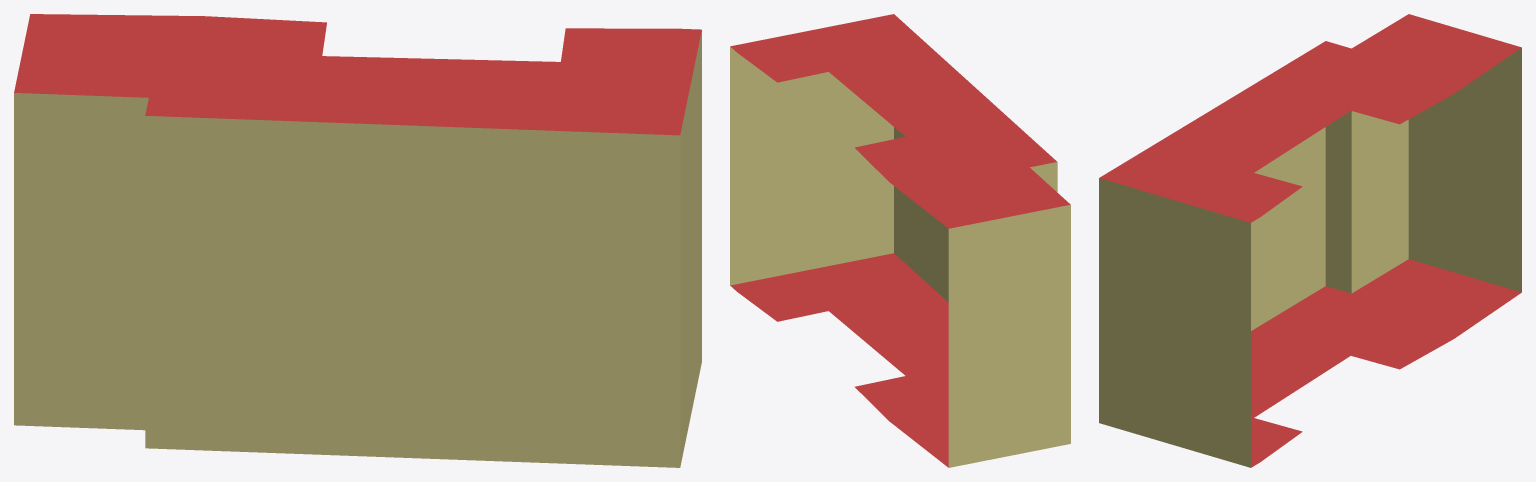
The picture shows the model from 3 angles, left to right: view 1: azimuth 30°, elevation 25°; view 2: azimuth 150°, elevation 25°; view 3: azimuth 270°, elevation 25°; orthographic projection. The views are drawn at different scales.
Parts seen in each view (by area): view 1: group_4, group_3; view 2: group_4, group_3, group_5; view 3: group_4, group_3, group_5.
Part boxes in pixels (x1,y1,x2,y2): group_4: (14,30,701,467); group_3: (14,14,701,135); group_4: (730,46,1070,467); group_3: (730,14,1070,228); group_5: (730,253,948,467); group_4: (1099,47,1521,467); group_3: (1099,14,1521,222); group_5: (1251,259,1521,467).
Bounding box in the file's own units: 9.97 × 8.53 × 5.45.
